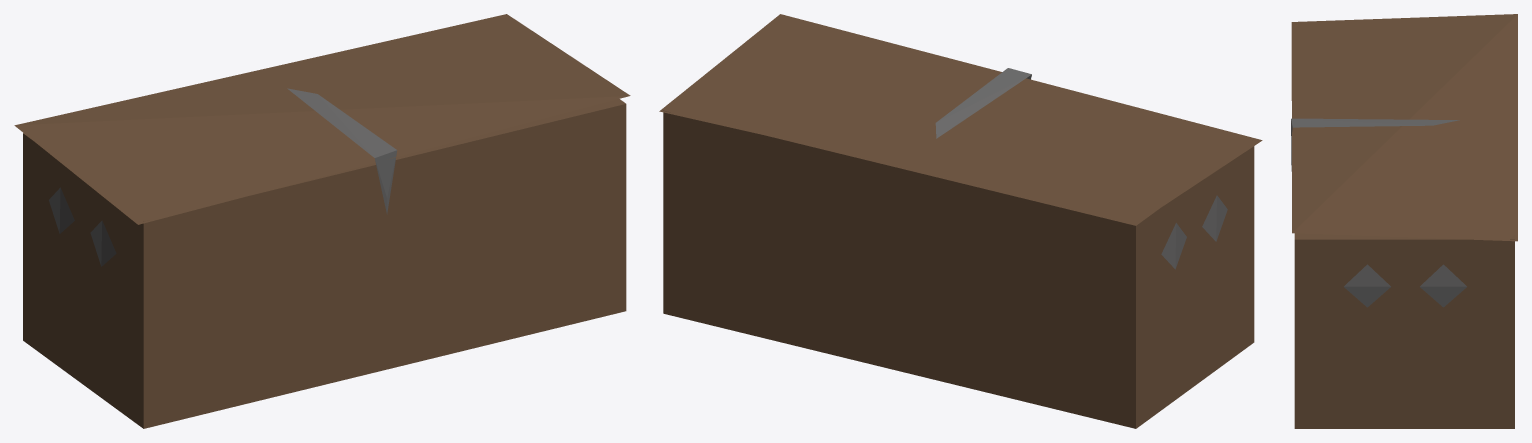
File: medieval-chest-b.lod2.glb
3 renders of one model, left to right at view 1: azimuth 30°, elevation 25°; view 2: azimuth 150°, elevation 25°; view 3: azimuth 270°, elevation 25°, orthographic. The views are drawn at different scales.
Visible parts, largest first — view 1: Medieval_Crate_LP_Material.001_0; view 2: Medieval_Crate_LP_Material.001_0; view 3: Medieval_Crate_LP_Material.001_0.
Boxes of the visible parts, bbox=[...] form: Medieval_Crate_LP_Material.001_0: bbox=[14, 14, 630, 428]; Medieval_Crate_LP_Material.001_0: bbox=[659, 14, 1262, 428]; Medieval_Crate_LP_Material.001_0: bbox=[1291, 14, 1517, 428].
Size of the model in its own units: 1.18 by 0.5022 by 0.5179.
